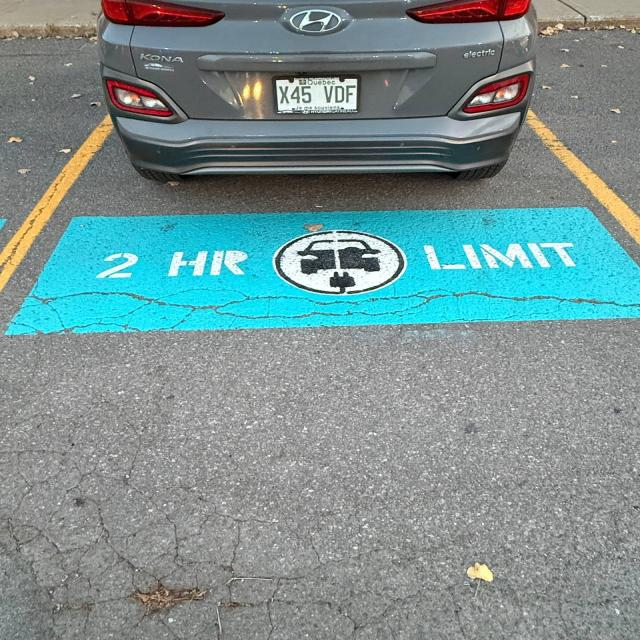plaque: (274, 77, 358, 113)
